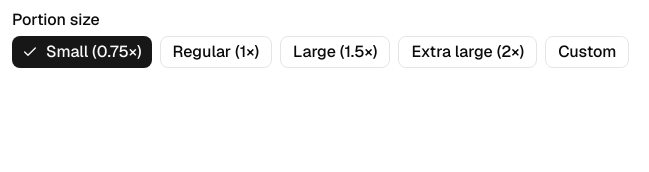
it: PortionSizeField › shows the input with the current value when Custom is picked, without changing it
The image size is (649, 172).
Click the radio button labelled "Custom": (587, 52) [545, 36, 629, 68]
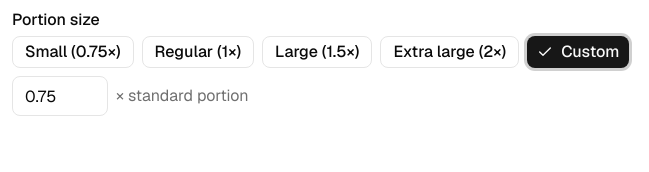
Now the field named "Portion multiplier" holds "0.75", box [12, 76, 108, 116]
